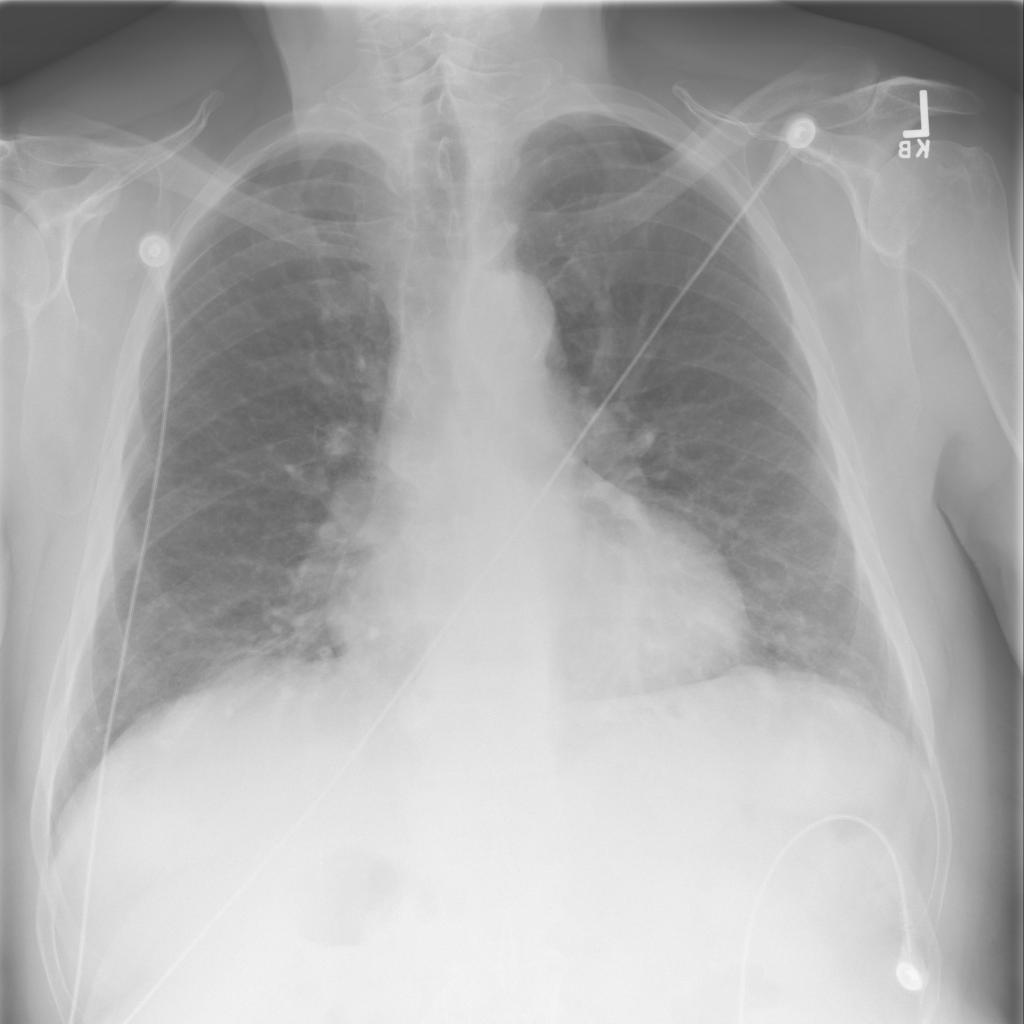Nodule: (73, 66, 94, 85)
